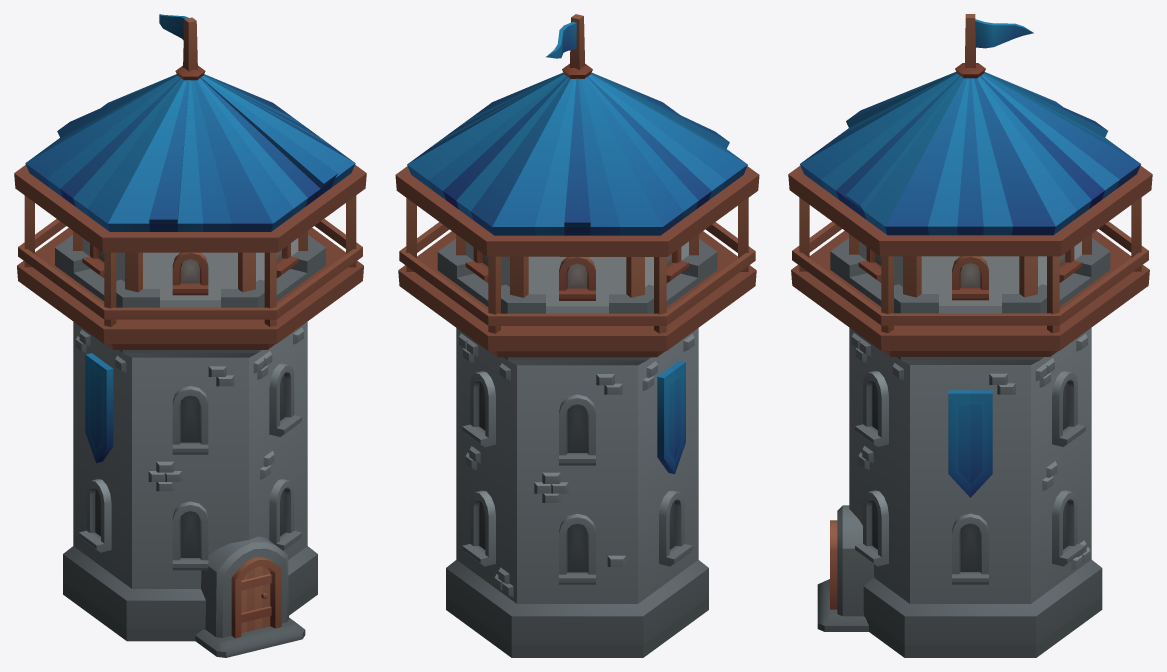
The model's file is H_tower_B_blue.glb.
3 renders of one model, left to right at view 1: azimuth 30°, elevation 25°; view 2: azimuth 150°, elevation 25°; view 3: azimuth 270°, elevation 25°, orthographic. The views are drawn at different scales.
Parts seen in each view (by area): view 1: building_tower_B_blue, building_tower_B_top_blue; view 2: building_tower_B_blue, building_tower_B_top_blue; view 3: building_tower_B_blue, building_tower_B_top_blue.
Boxes of the visible parts, <box> form: building_tower_B_blue: <box>55,235,325,657</box>; building_tower_B_top_blue: <box>14,14,366,349</box>; building_tower_B_blue: <box>437,238,717,657</box>; building_tower_B_top_blue: <box>395,14,759,357</box>; building_tower_B_blue: <box>817,238,1110,657</box>; building_tower_B_top_blue: <box>788,14,1152,356</box>.
Size of the model in its own units: 1.2 by 2.49 by 1.38.
